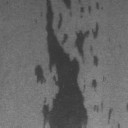red iron: (34, 0, 112, 128), (126, 104, 128, 112), (117, 124, 120, 128)
